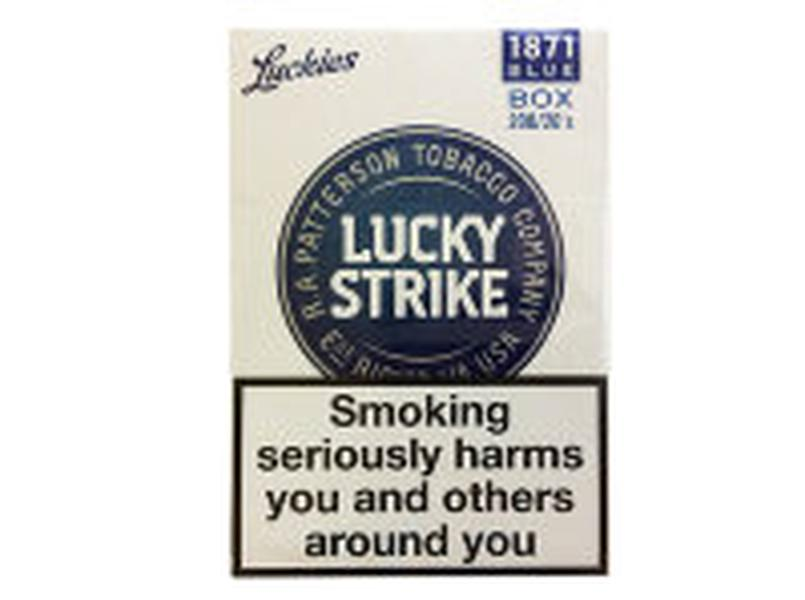lucky_strike_blue: (229, 29, 610, 578)
